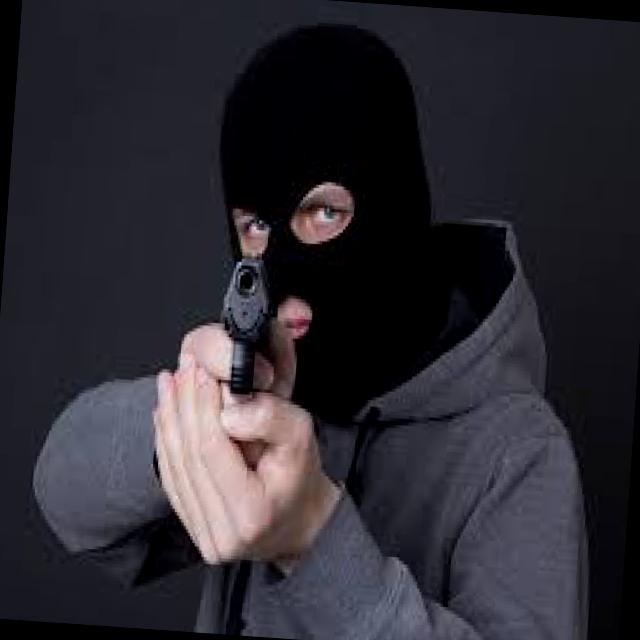handgun: (214, 247, 266, 398)
